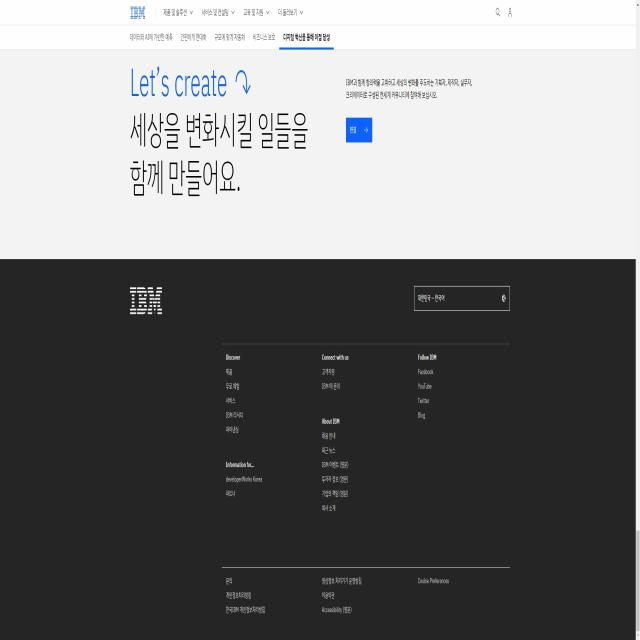tab-bar: (128, 1, 304, 23), (128, 30, 336, 48)
